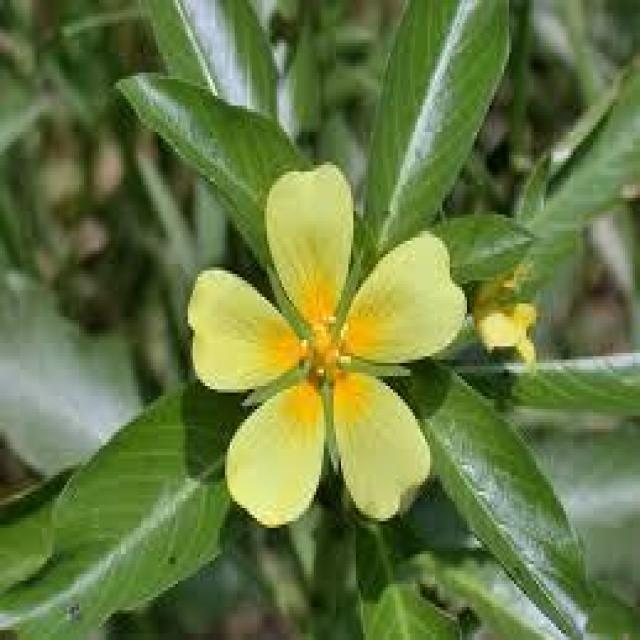organic waste: (180, 156, 467, 520)
